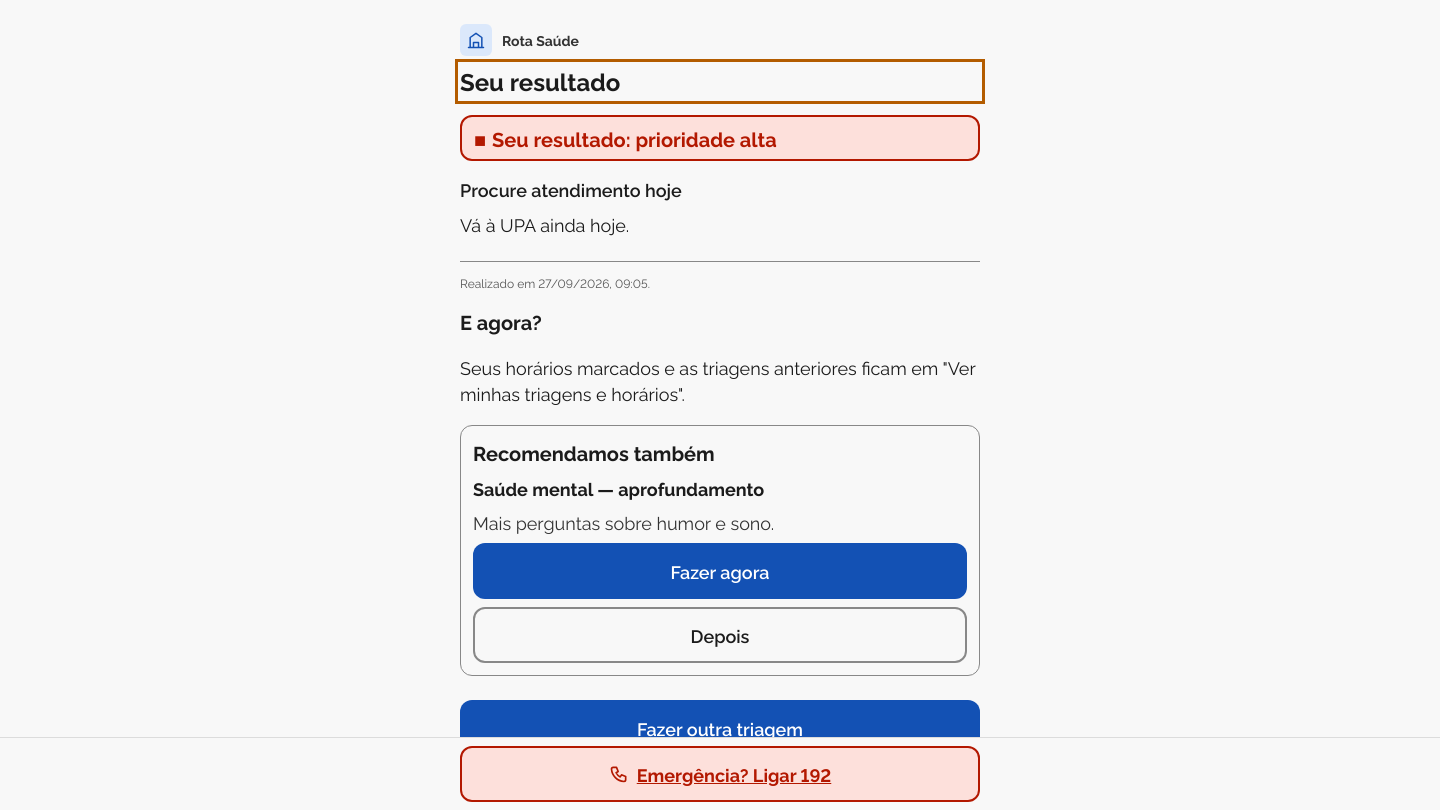
Test case: ResultStep — Recomendamos também (módulo 15) › 'Depois' esconde a sugestão; sem nenhuma, fica só a nota de onde encontrá-las
Click the button "Depois" at (720, 635), box [473,607,967,663]
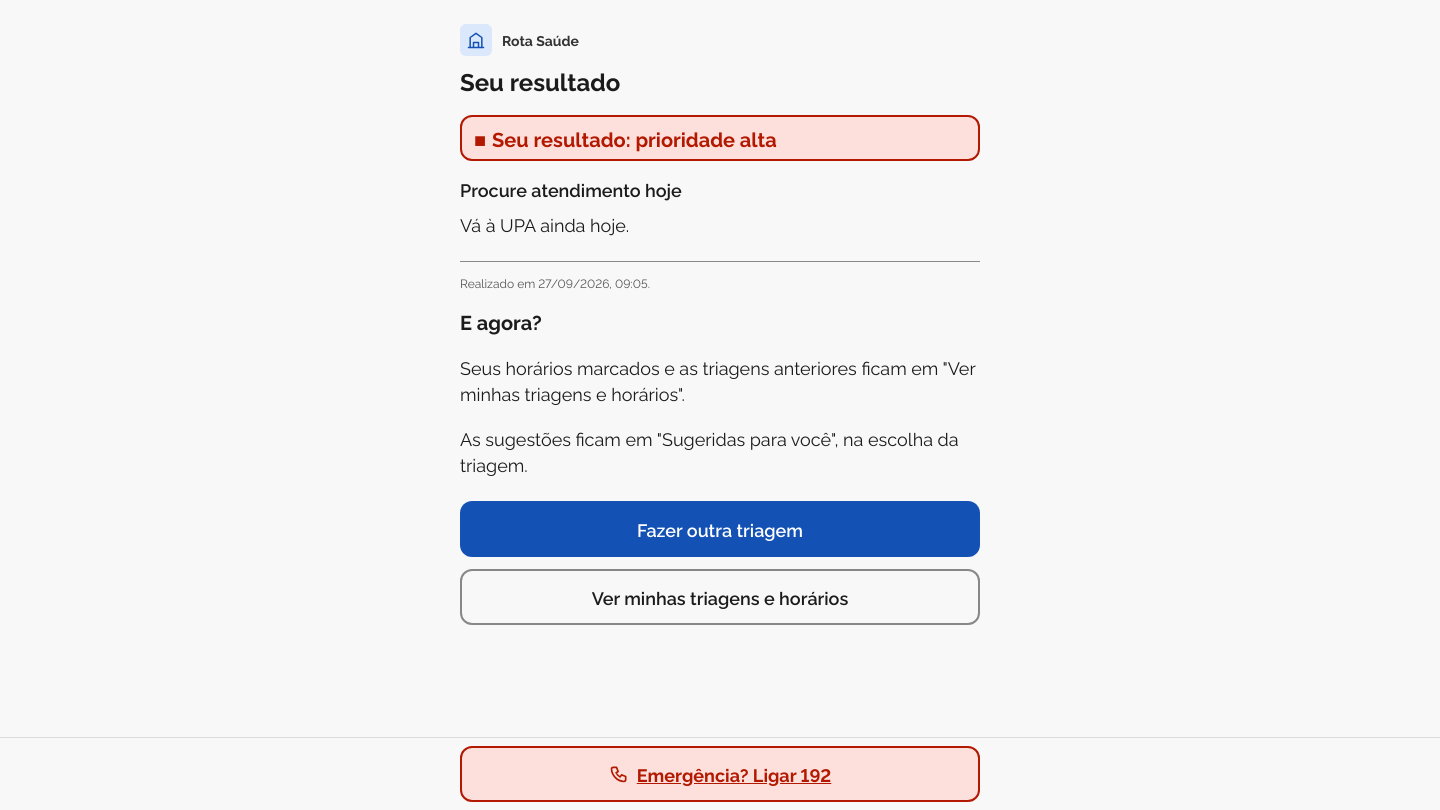
expect the heading "Recomendamos também" is gone: met
expect the text "As sugestões ficam em \"Sugeridas para você\", na escolha da triagem." is shown: met, box [460,425,980,477]
